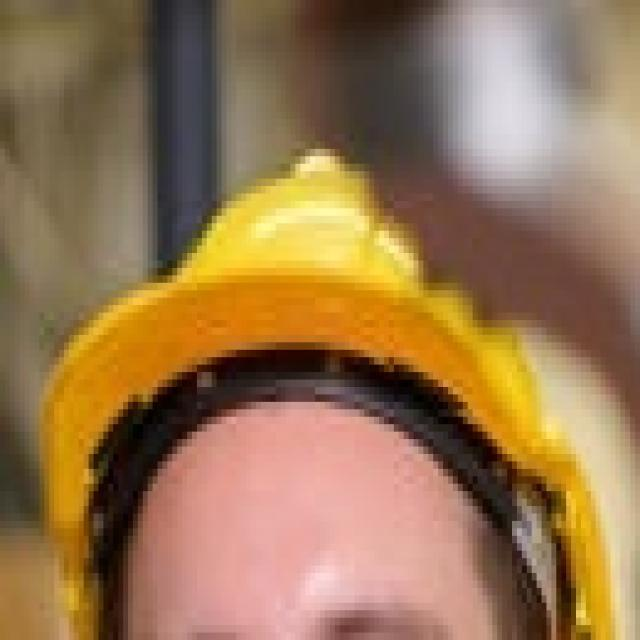Helmet: (3, 112, 616, 636)
